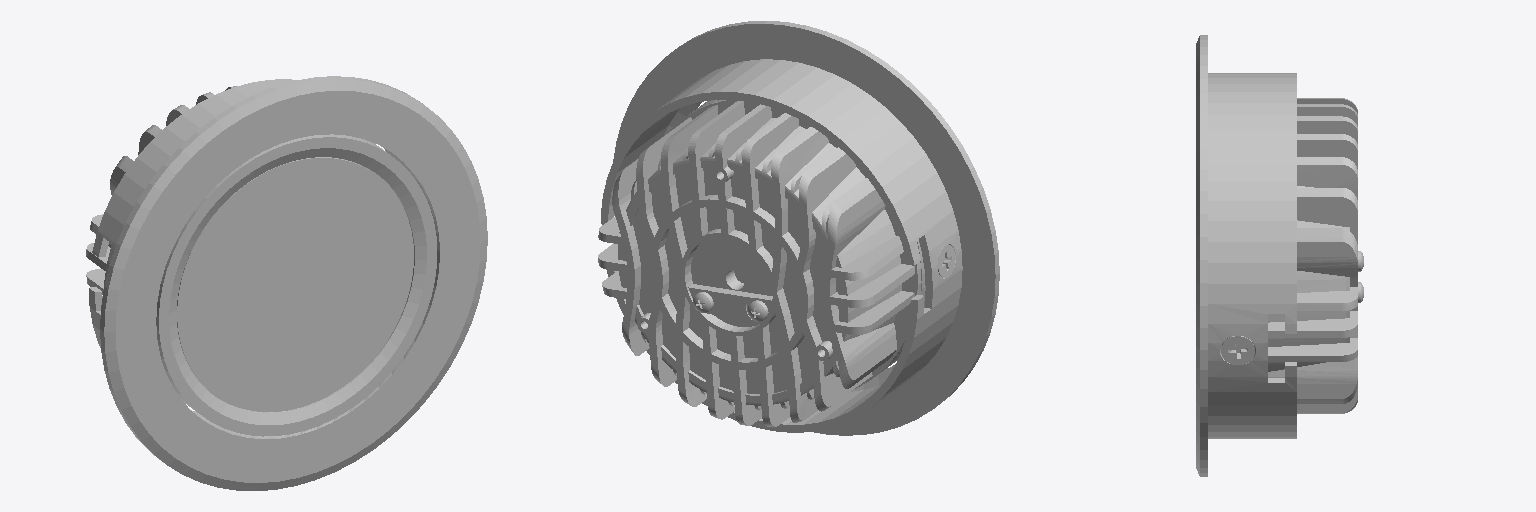
Rendered from 装配体.obj.
3 views of the same model, side by side, from view 1: azimuth 30°, elevation 25°; view 2: azimuth 150°, elevation 25°; view 3: azimuth 270°, elevation 25° (orthographic).
Parts seen in each view (by area): view 1: ______; view 2: ______; view 3: ______.
Boxes of the visible parts, box(x1,y1,x2,y2) form: ______: box(86, 76, 487, 490); ______: box(598, 21, 999, 435); ______: box(1196, 35, 1363, 476).
Bounding box in the file's own units: 105 × 105 × 39.83.